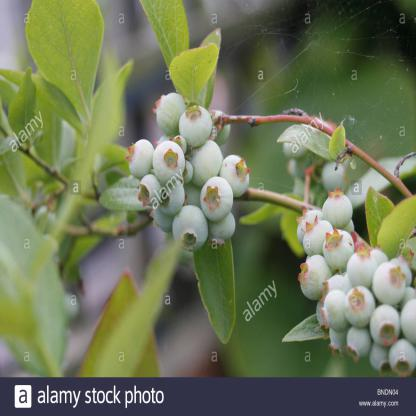blueberry leaf: (20, 0, 103, 137), (188, 234, 243, 356), (166, 29, 228, 109), (364, 184, 415, 258)
